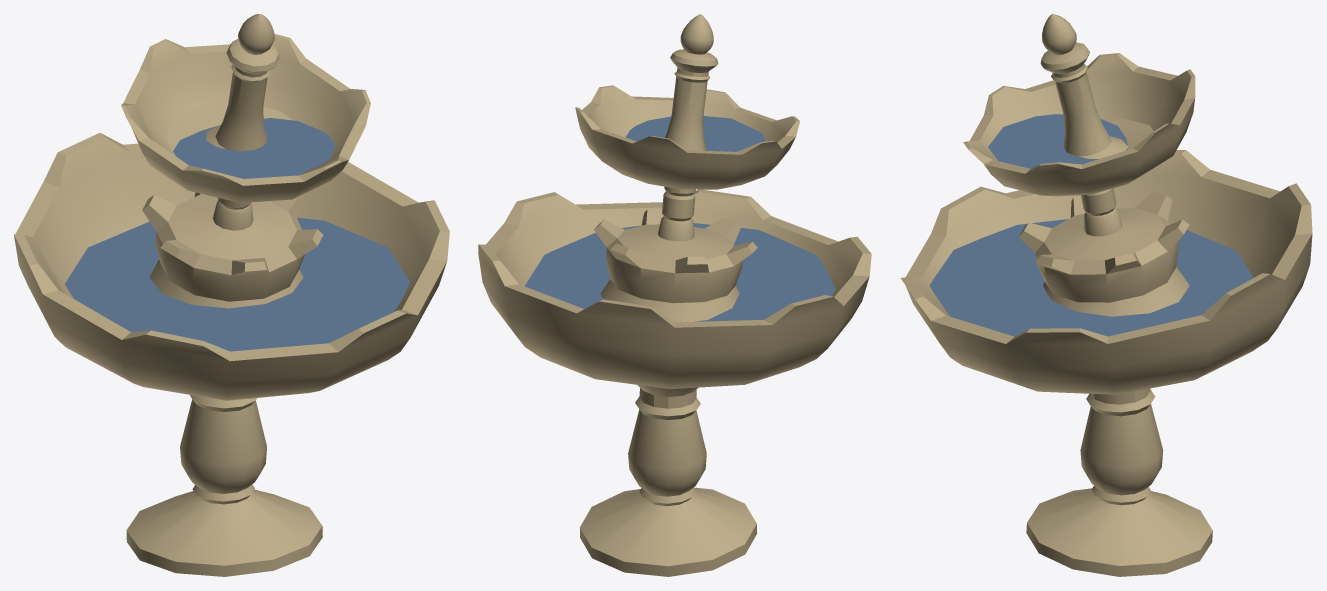
Rendered from Fountain.fbx.
The picture shows the model from 3 angles, left to right: view 1: azimuth 30°, elevation 25°; view 2: azimuth 150°, elevation 25°; view 3: azimuth 270°, elevation 25°; orthographic projection. The views are drawn at different scales.
Parts seen in each view (by area): view 1: Cylinder.002, Cylinder.003; view 2: Cylinder.002, Cylinder.003; view 3: Cylinder.002, Cylinder.003.
Part boxes in pixels (x1,y1,x2,y2): Cylinder.002: [14, 14, 449, 576]; Cylinder.003: [64, 118, 409, 351]; Cylinder.002: [478, 14, 871, 576]; Cylinder.003: [525, 116, 835, 321]; Cylinder.002: [900, 14, 1312, 576]; Cylinder.003: [929, 114, 1253, 336].
Size of the model in its own units: 93.06 by 131 by 92.51.
